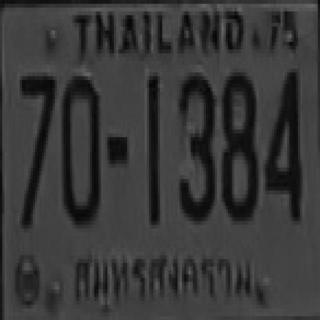N00: (60, 73, 100, 221)
N01: (147, 72, 158, 225)
N03: (178, 70, 212, 219)
N04: (263, 68, 300, 217)
N07: (18, 72, 55, 225)
N08: (222, 68, 256, 217)
P59: (69, 242, 257, 316)
